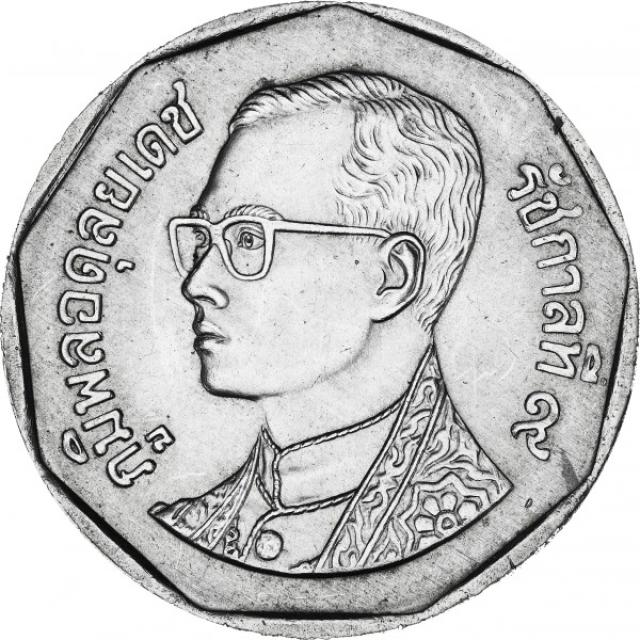5 Bath: (1, 1, 640, 640)
